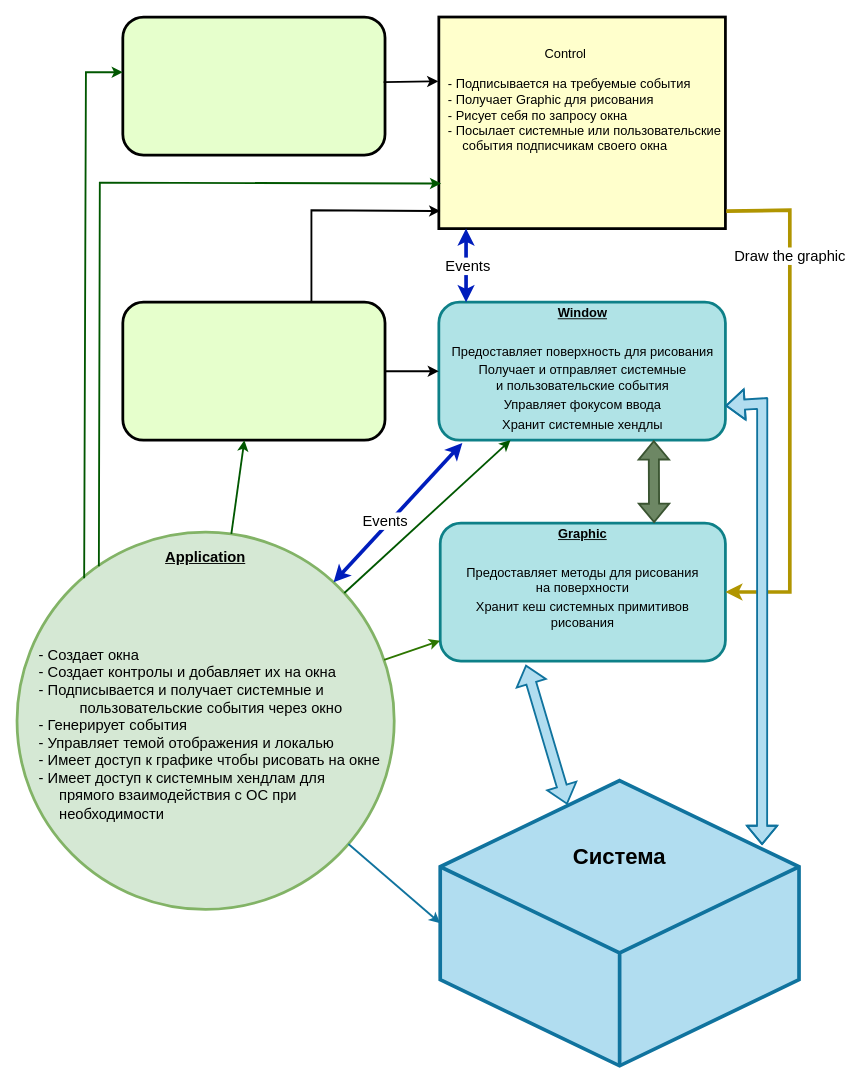
Image size: 861x1084. Some labels were removed from this diagram. The shapes that lost their labels are listed below. From the top down, each one's centre as x and y in pixels, then its label:
At (x=253, y=85): "Locale Предоставляет текстовые константы для заданного языка пользователя".
At (x=253, y=370): "Theme Предоставляет константы отображения для заданной визуальной темы".
